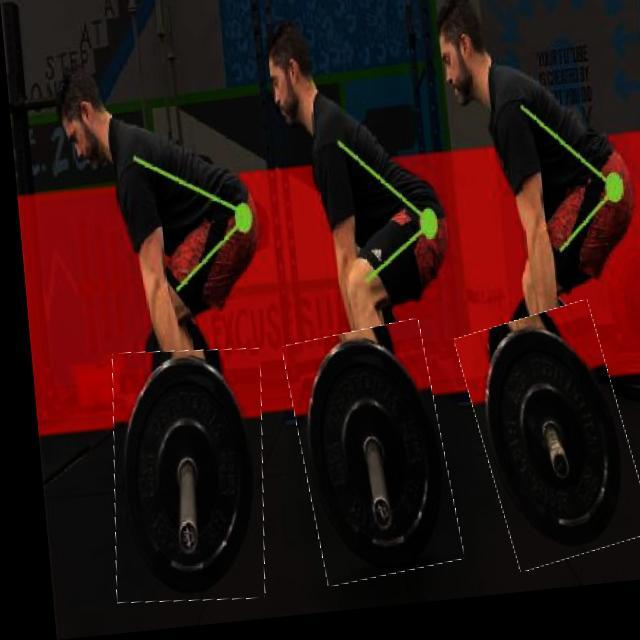barbell: (458, 316, 635, 581), (93, 348, 266, 613), (281, 330, 449, 593)
